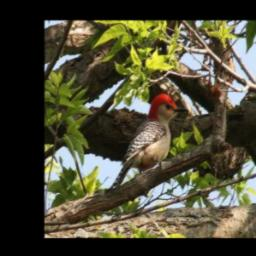Woodpecker: (105, 90, 189, 192)
